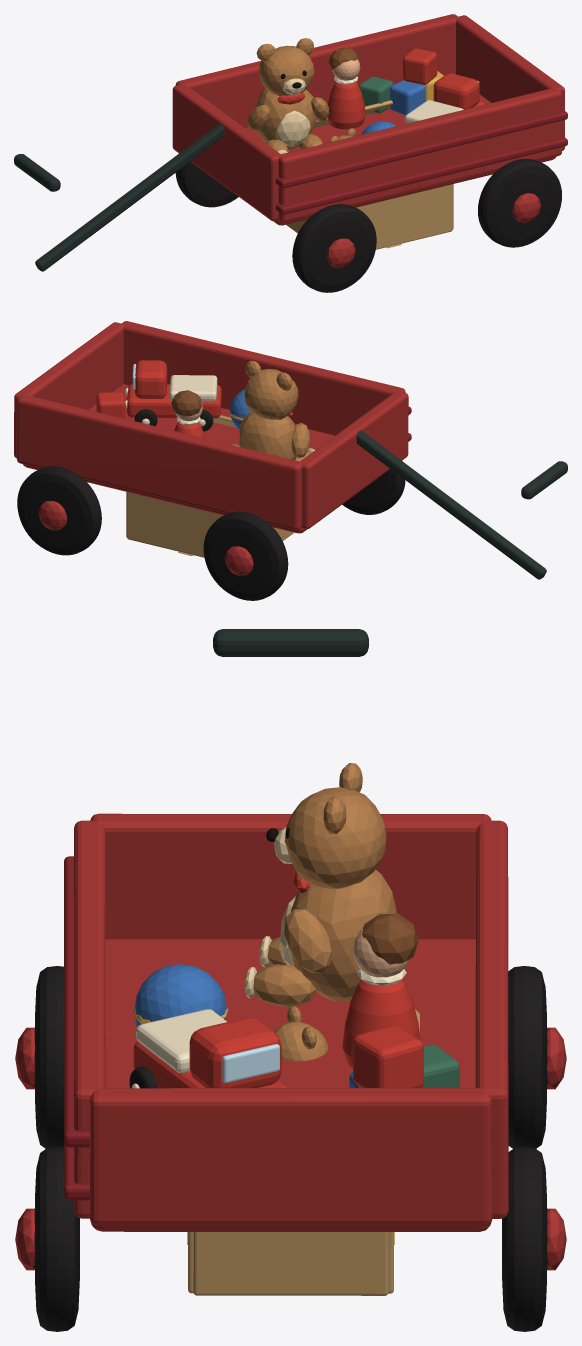
Rendered from ch1_props.glb.
3 renders of one model, top to bottom at view 1: azimuth 30°, elevation 25°; view 2: azimuth 150°, elevation 25°; view 3: azimuth 270°, elevation 25°, orthographic. The views are drawn at different scales.
Visible parts, largest first — view 1: side.002, side.003, end.002, wheel.004, wheel.006, end.003, side, handle, strip, strip.001, head.001, bed (+15 smaller); view 2: side.003, side.002, end.002, wheel.005, wheel.007, end.003, side.001, handle, bed, head.001, body.001, wheel.004 (+10 smaller); view 3: end.003, end.002, bed, end.001, side.003, side.002, wheel.007, head.001, wheel.006, wheel.005, body.001, wheel.004 (+19 smaller).
Boxes of the visible parts, <box> form: side.002: <box>278,88,561,222</box>; side.003: <box>175,14,457,128</box>; end.002: <box>172,84,280,220</box>; wheel.004: <box>292,204,376,292</box>; wheel.006: <box>478,159,561,247</box>; end.003: <box>456,15,564,150</box>; side: <box>356,184,452,249</box>; handle: <box>35,123,224,271</box>; strip: <box>275,135,567,214</box>; strip.001: <box>275,109,567,188</box>; head.001: <box>259,45,314,96</box>; bed: <box>246,94,556,225</box>; side.003: <box>17,395,301,530</box>; side.002: <box>121,321,405,435</box>; end.002: <box>300,391,408,528</box>; wheel.005: <box>203,511,288,600</box>; wheel.007: <box>17,466,101,555</box>; end.003: <box>14,322,123,458</box>; side.001: <box>127,492,223,557</box>; handle: <box>356,430,546,579</box>; bed: <box>23,384,334,533</box>; head.001: <box>244,369,298,419</box>; body.001: <box>239,412,296,460</box>; wheel.004: <box>342,469,405,514</box>; end.003: <box>90,1088,492,1225</box>; end.002: <box>90,813,491,939</box>; bed: <box>90,939,492,1231</box>; end.001: <box>193,1232,388,1295</box>; side.003: <box>475,820,508,1218</box>; side.002: <box>73,820,105,1218</box>; wheel.007: <box>502,1147,547,1331</box>; head.001: <box>284,787,386,888</box>; wheel.006: <box>34,1147,79,1331</box>; wheel.005: <box>508,966,547,1148</box>; body.001: <box>291,869,396,1001</box>; wheel.004: <box>34,966,63,1148</box>.
Size of the model in its own units: 2.07 by 0.7933 by 1.02.
